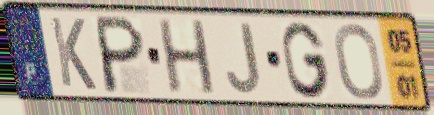G: (279, 19, 333, 101)
H: (156, 18, 219, 97)
J: (224, 21, 263, 97)
K: (47, 14, 99, 93)
O: (332, 21, 386, 102)
P: (95, 13, 146, 96)
